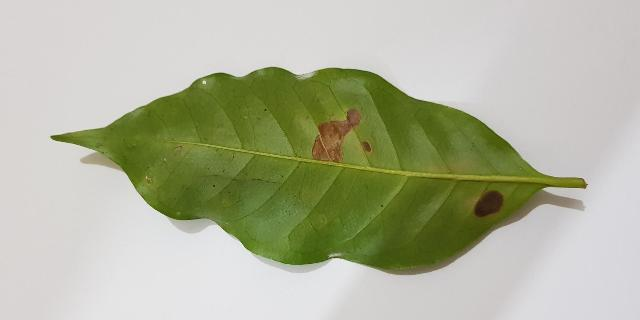cercospora: (312, 109, 361, 162), (473, 190, 504, 218), (362, 142, 371, 152)
